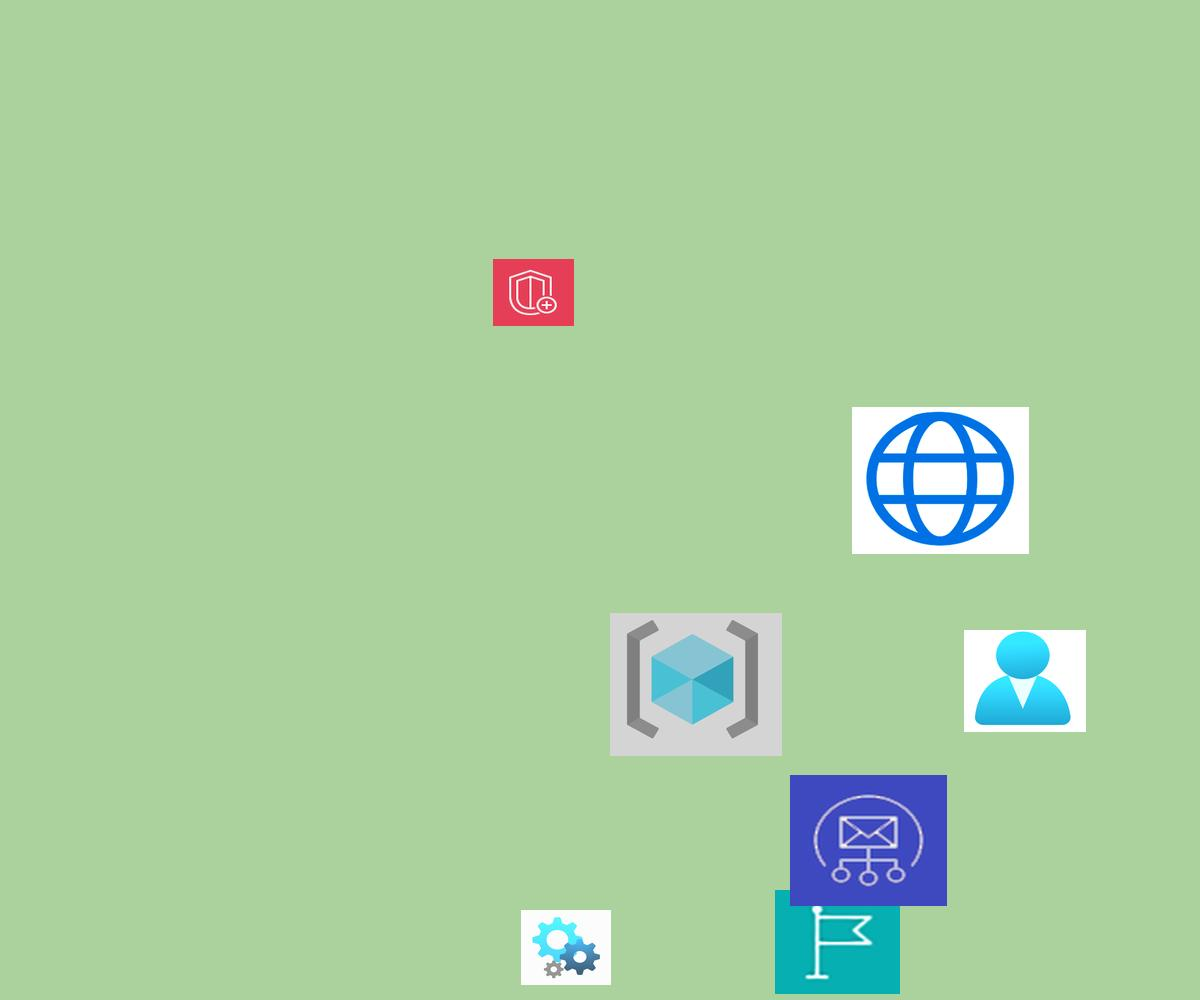AWS-Region: (775, 890, 900, 994)
AWS-Shield: (493, 259, 574, 326)
AWS-Simple-Email-Service: (790, 775, 947, 906)
Azure_api: (521, 910, 611, 985)
Azure_http: (852, 407, 1029, 554)
Azure_resource_group: (610, 613, 782, 756)
Azure_users: (964, 630, 1086, 732)
